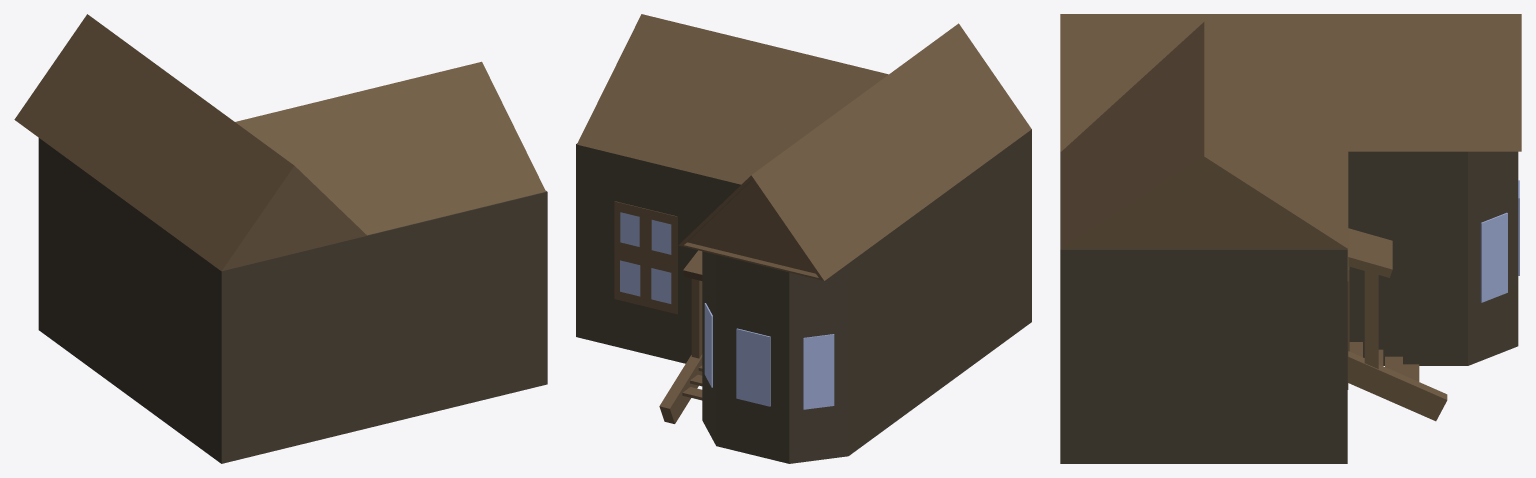
Rendered from Town HouseRight.fbx.
The picture shows the model from 3 angles, left to right: view 1: azimuth 30°, elevation 25°; view 2: azimuth 150°, elevation 25°; view 3: azimuth 270°, elevation 25°; orthographic projection. The views are drawn at different scales.
Visible parts, largest first — view 1: Cube.041; view 2: Cube.041; view 3: Cube.041.
Boxes of the visible parts, box(x1,y1,x2,y2) form: Cube.041: box(14, 14, 547, 463); Cube.041: box(576, 14, 1031, 463); Cube.041: box(1060, 14, 1521, 463).
Bounding box in the file's own units: 2347 × 2096 × 2582.
